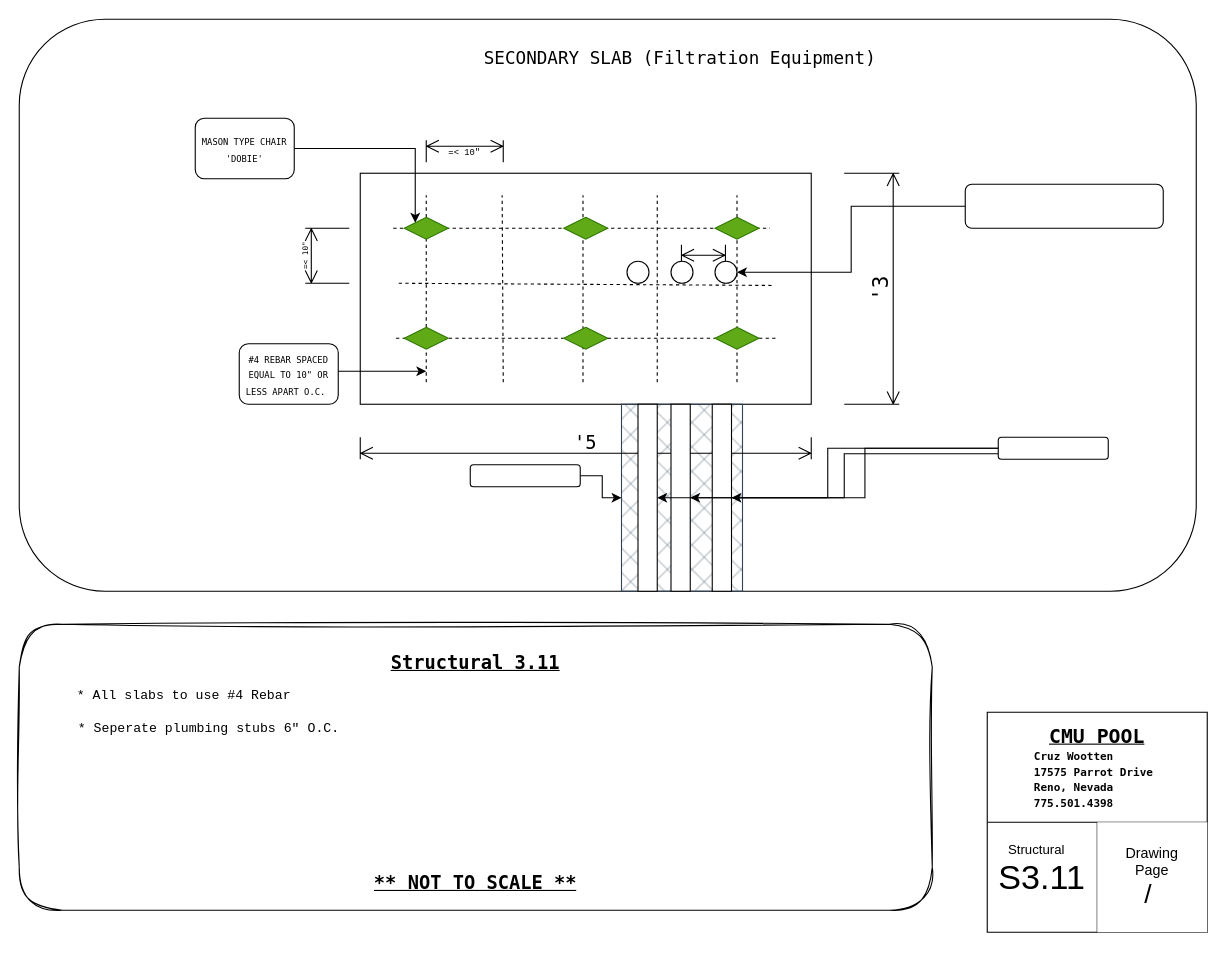
This 1227x953 diagram has some shape labels left out. The shapes that lost their labels are listed below. From the top down, each one's centre as x and y in pixels, then its label:
point (1063, 205): SCH 40 1"1/4 PVC STUBS SPACED 6" O.C. THRU SLAB WITH >/= 6" EXTRUSION
point (702, 252): 6" O.C.
point (1052, 447): SCH 40 1 1/4 PVC
point (524, 475): MAIN TRENCH
